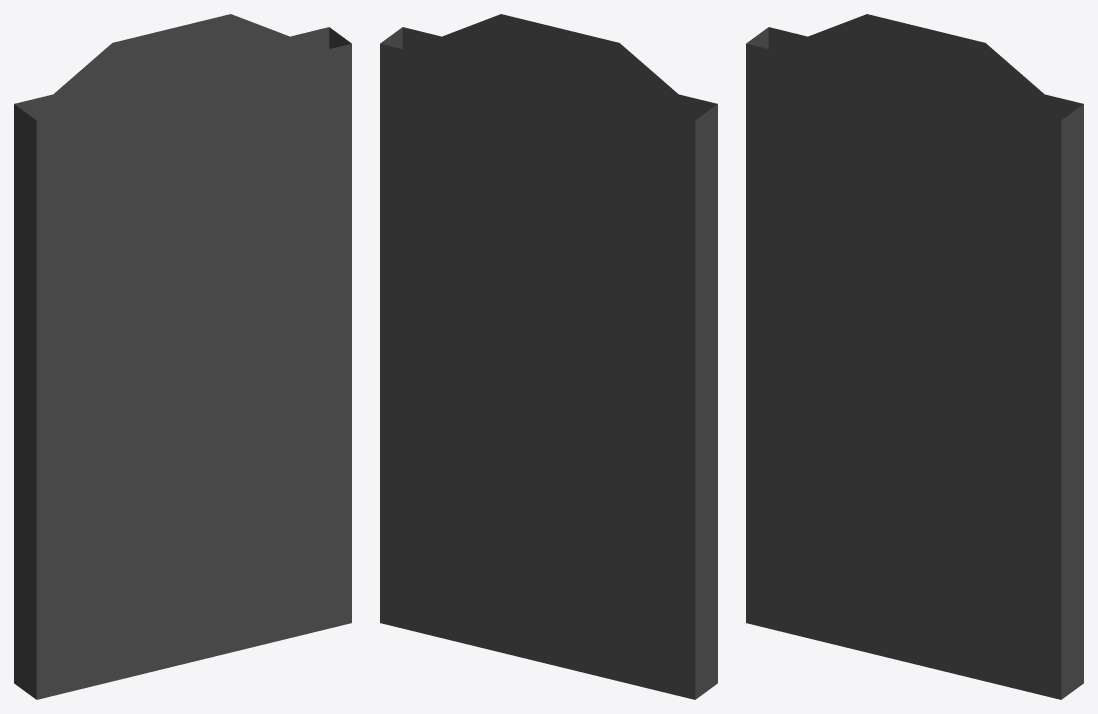
Rendered from Itr_Obj_Grandfatherclock1_Back_04.FBX.
The picture shows the model from 3 angles, left to right: view 1: azimuth 30°, elevation 25°; view 2: azimuth 150°, elevation 25°; view 3: azimuth 330°, elevation 25°; orthographic projection.
Visible parts, largest first — view 1: Itr_Obj_Grandfatherclock1_Back_04; view 2: Itr_Obj_Grandfatherclock1_Back_04; view 3: Itr_Obj_Grandfatherclock1_Back_04.
Boxes of the visible parts, x1,y1,x2,y2 form: Itr_Obj_Grandfatherclock1_Back_04: [14, 14, 351, 699]; Itr_Obj_Grandfatherclock1_Back_04: [380, 14, 717, 699]; Itr_Obj_Grandfatherclock1_Back_04: [746, 14, 1083, 699].
Size of the model in its own units: 19.3 by 36.07 by 2.41.
